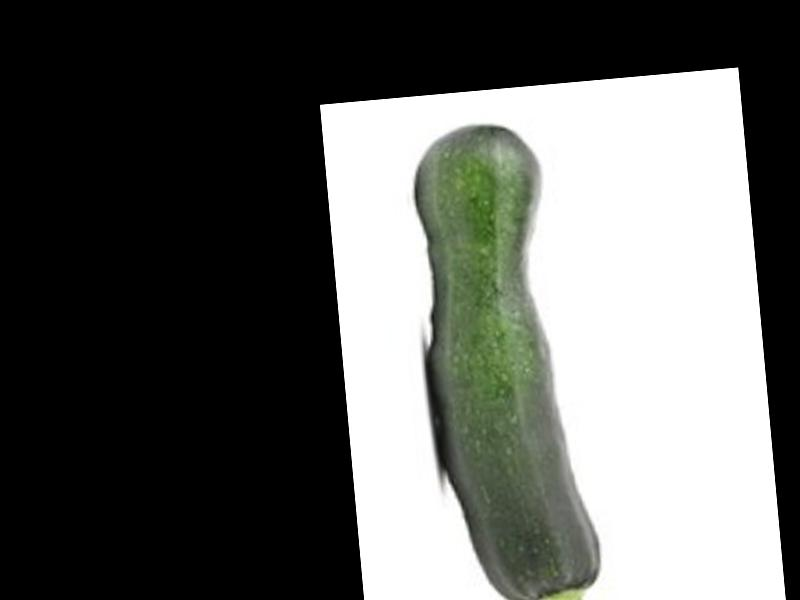Cucumber: (407, 118, 606, 600)
